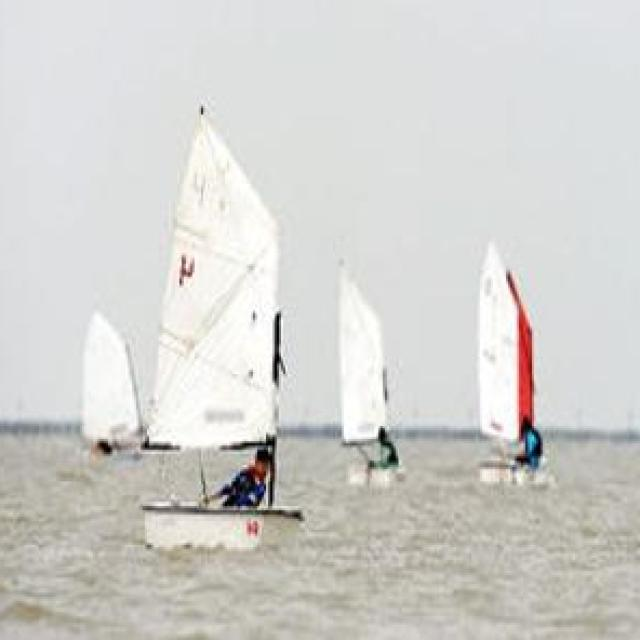sailboat: (138, 99, 307, 554), (466, 240, 566, 489), (328, 252, 407, 490), (68, 302, 141, 473)
